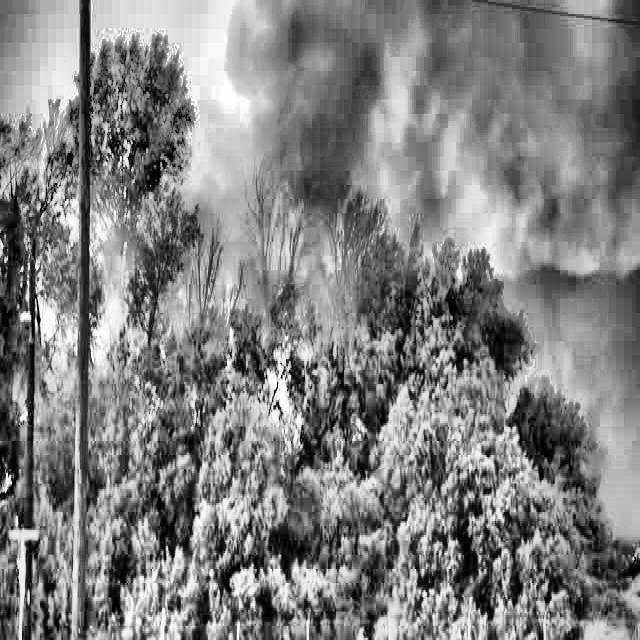fire: (83, 110, 370, 472)
